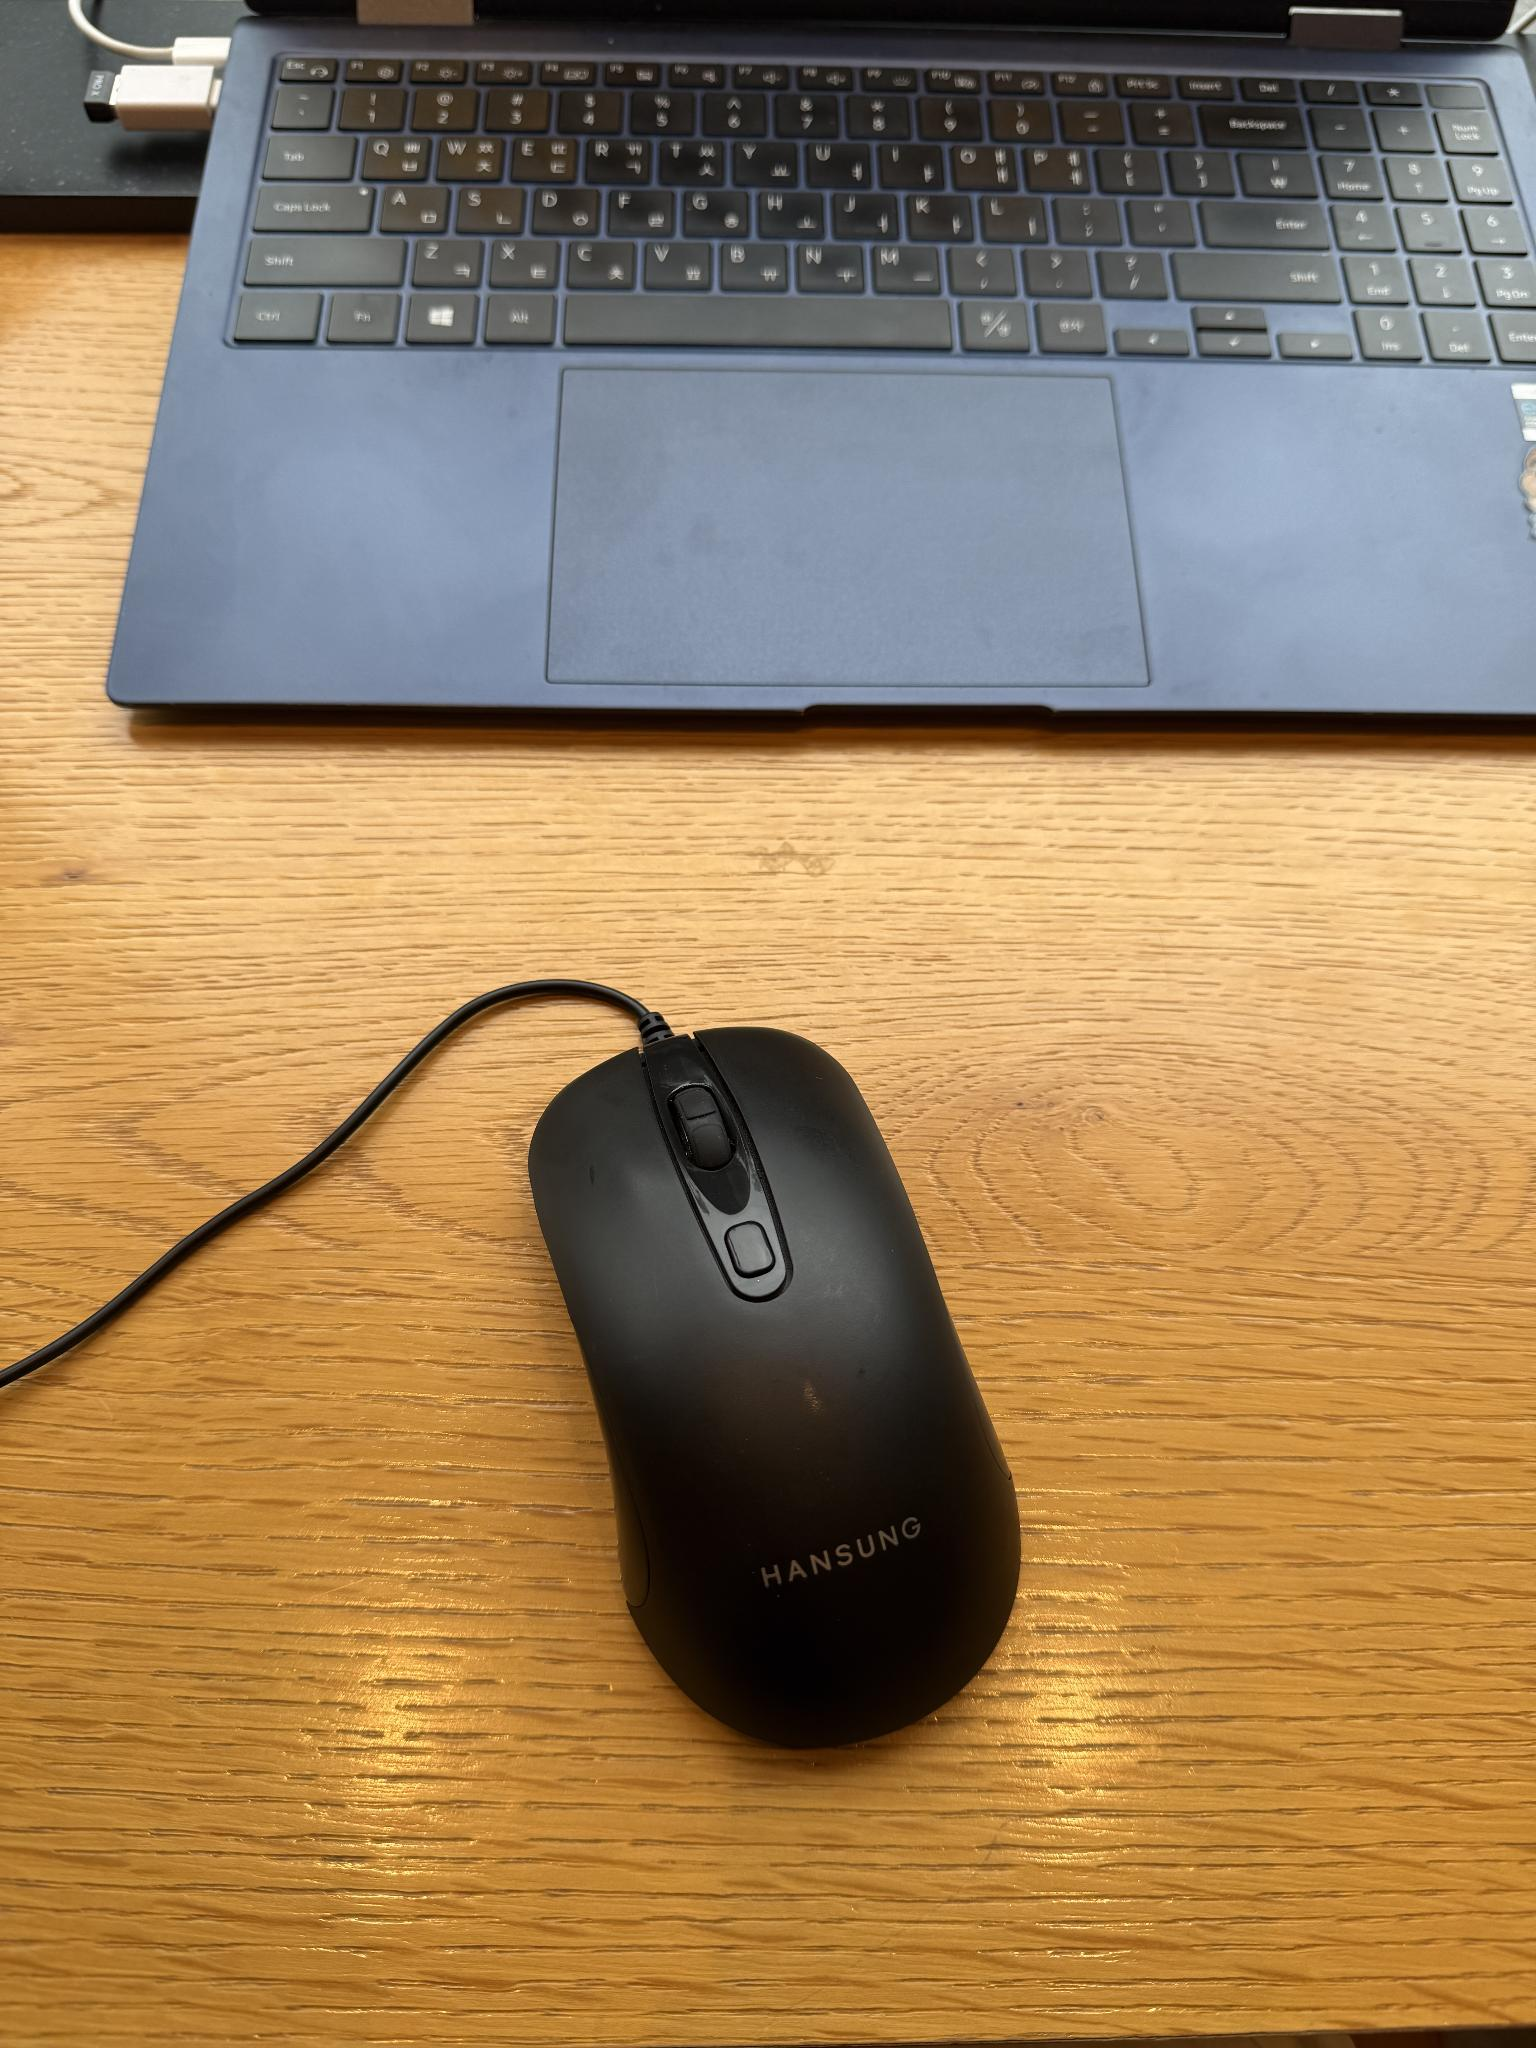front: (534, 1022, 1036, 1761)
